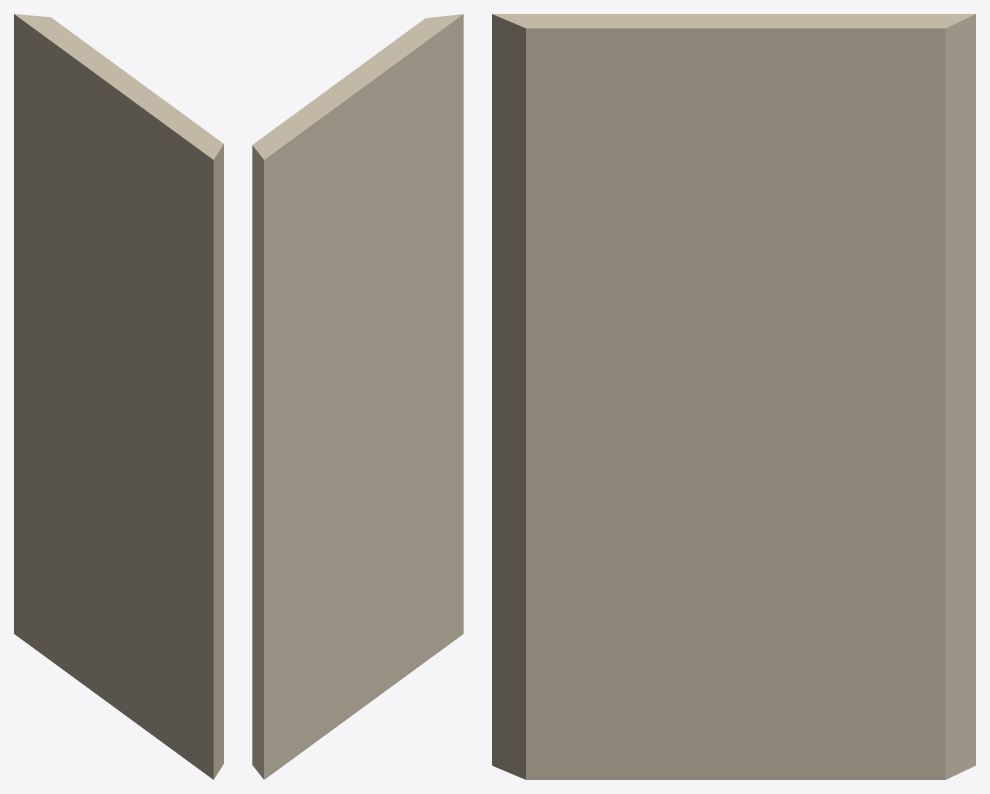
File: wall-19.glb
The picture shows the model from 3 angles, left to right: view 1: azimuth 30°, elevation 25°; view 2: azimuth 150°, elevation 25°; view 3: azimuth 270°, elevation 25°; orthographic projection. The views are drawn at different scales.
Bounding box in the file's own units: 0.3282 × 8 × 4.67.
